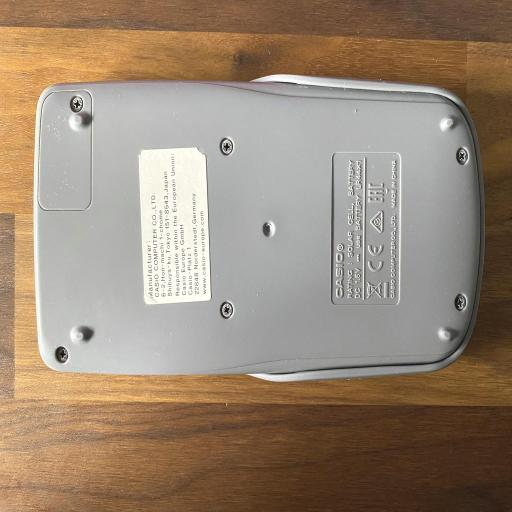Phillips: (52, 340, 73, 370), (68, 91, 84, 119), (452, 291, 469, 314), (453, 146, 470, 168), (219, 300, 233, 324), (220, 135, 235, 157)
